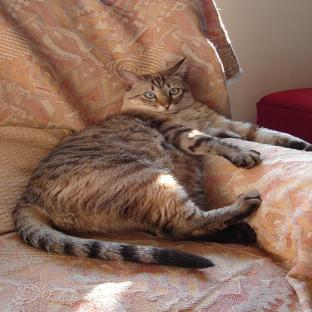Animal: (12, 59, 311, 268)
